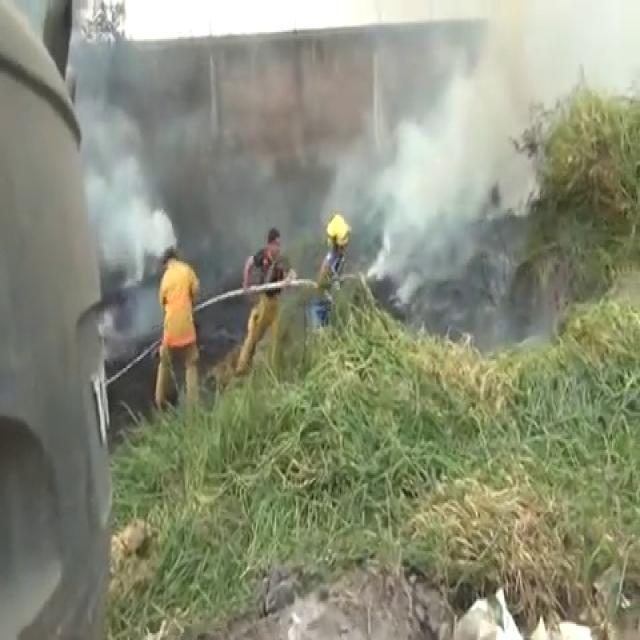Smoke: (358, 0, 638, 286), (64, 35, 168, 306)
